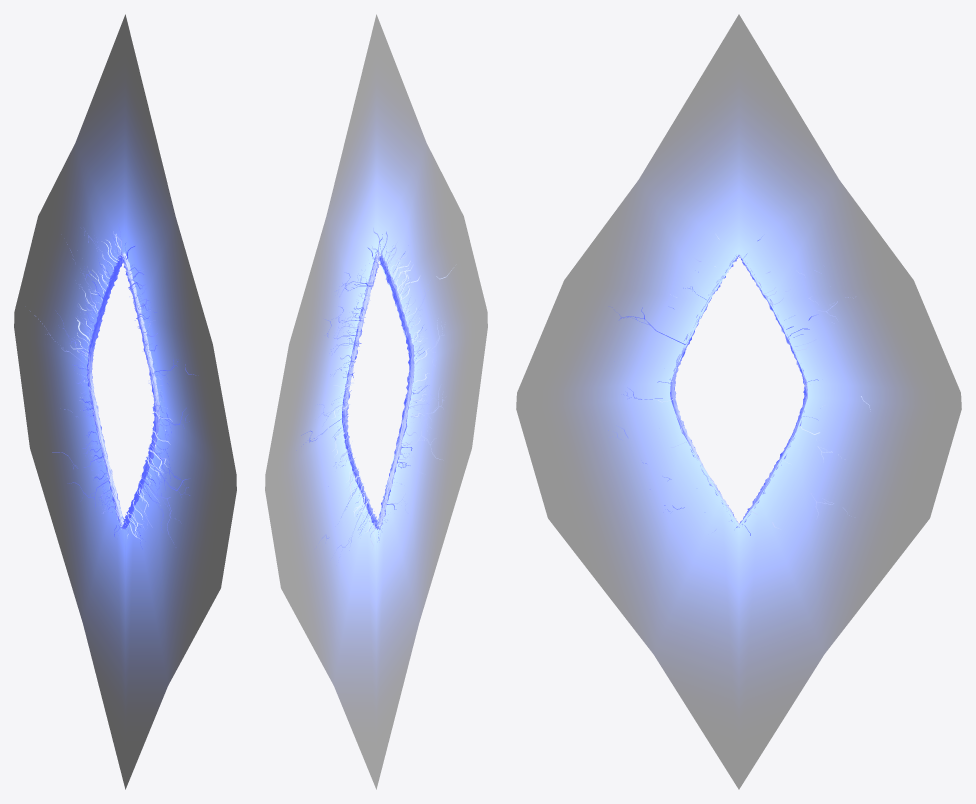
Rendered from Rift.glb.
3 renders of one model, left to right at view 1: azimuth 30°, elevation 25°; view 2: azimuth 150°, elevation 25°; view 3: azimuth 270°, elevation 25°, orthographic.
Parts seen in each view (by area): view 1: Rift; view 2: Rift; view 3: Rift.
Boxes of the visible parts, x1,y1,x2,y2 form: Rift: [14, 14, 236, 789]; Rift: [265, 14, 487, 789]; Rift: [516, 14, 961, 789].
Bounding box in the file's own units: 0.197 × 6.09 × 3.17.
2 materials, 1 textured.
